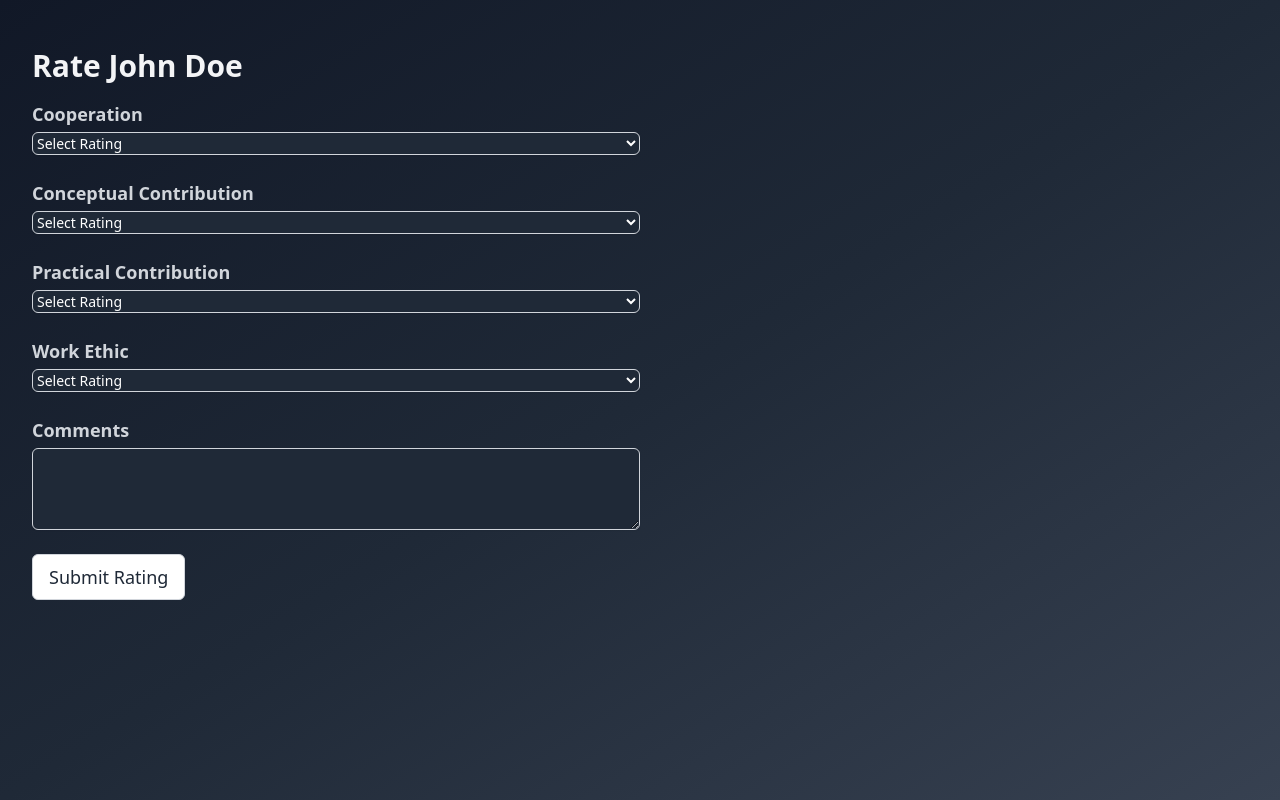
Test: PeerRating Component › handles API error gracefully
The image size is (1280, 800).
Fill the form
Select "5 - Excellent" in the dropdown with test id "cop": (336, 144) [32, 132, 640, 155]
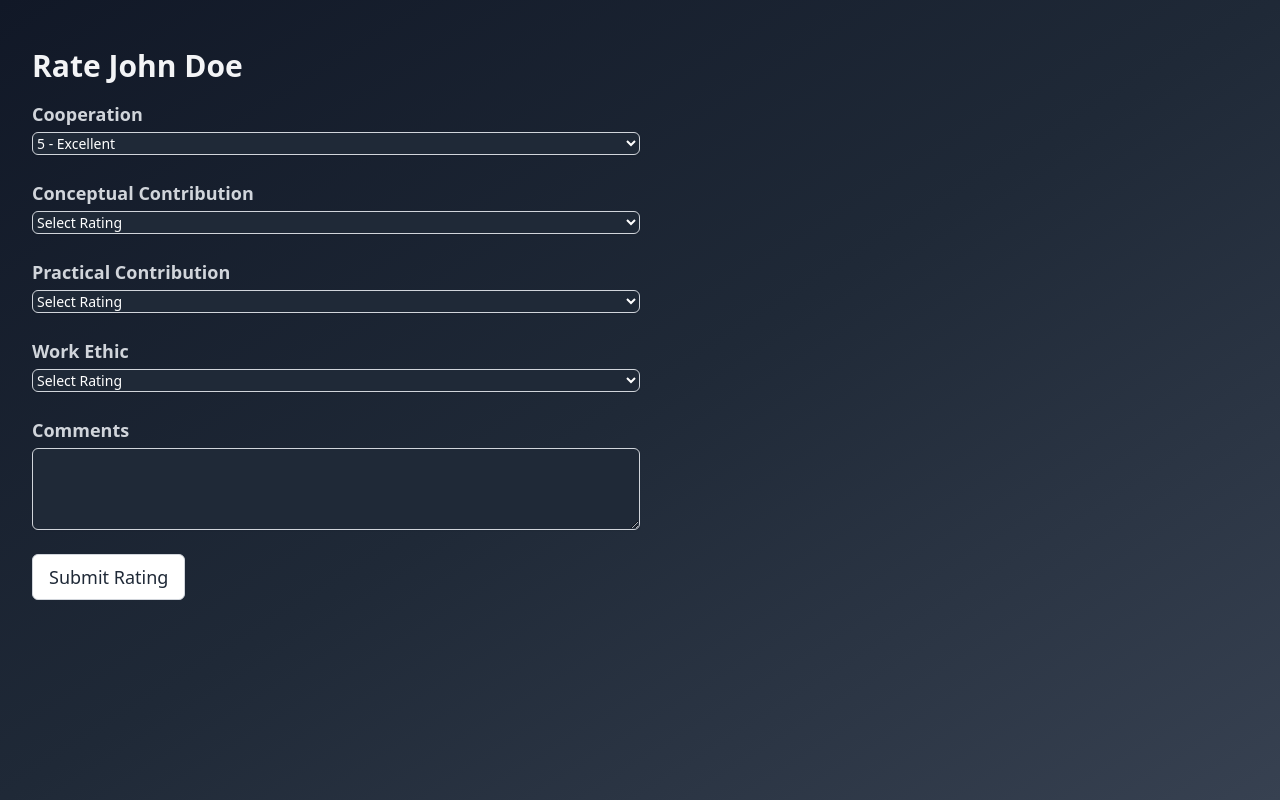
Select "4 - Very Good" in the dropdown with test id "con": (336, 222) [32, 211, 640, 234]
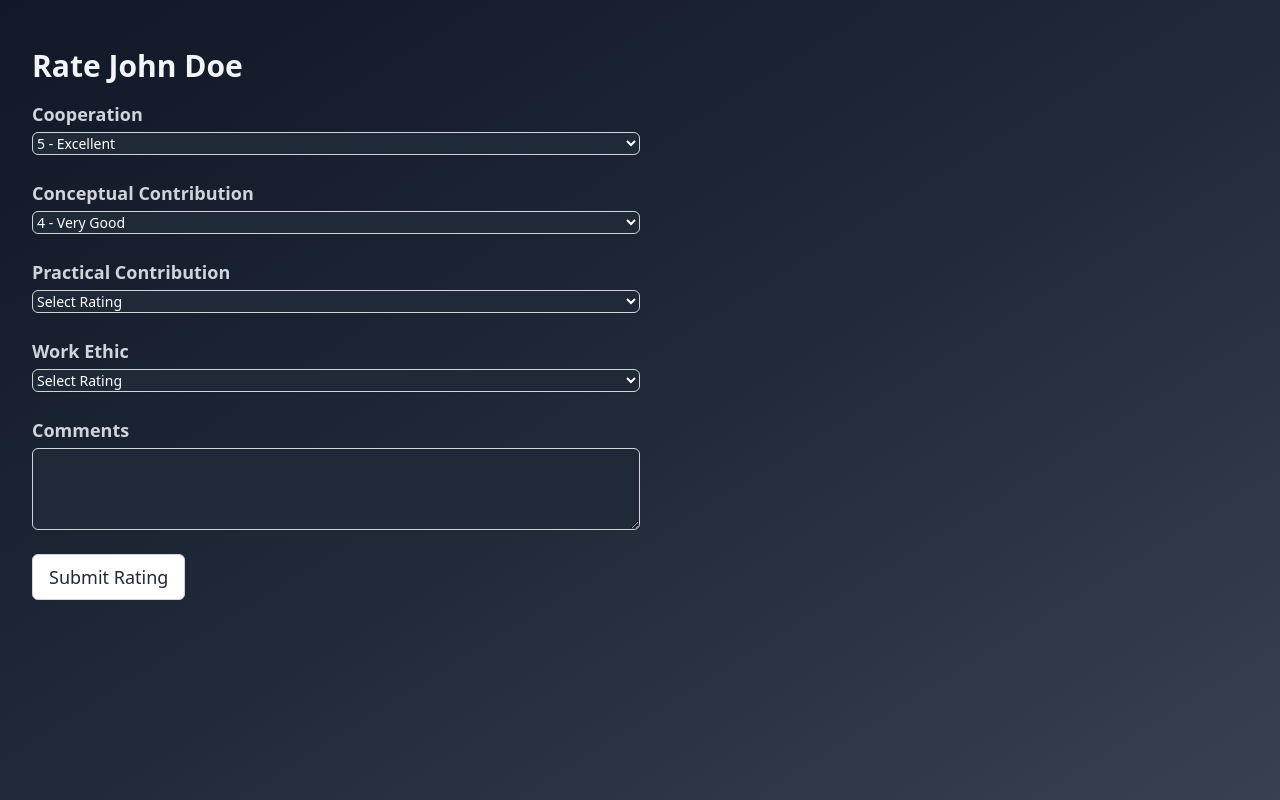
Select "3 - Good" in the dropdown with test id "prac": (336, 302) [32, 290, 640, 313]
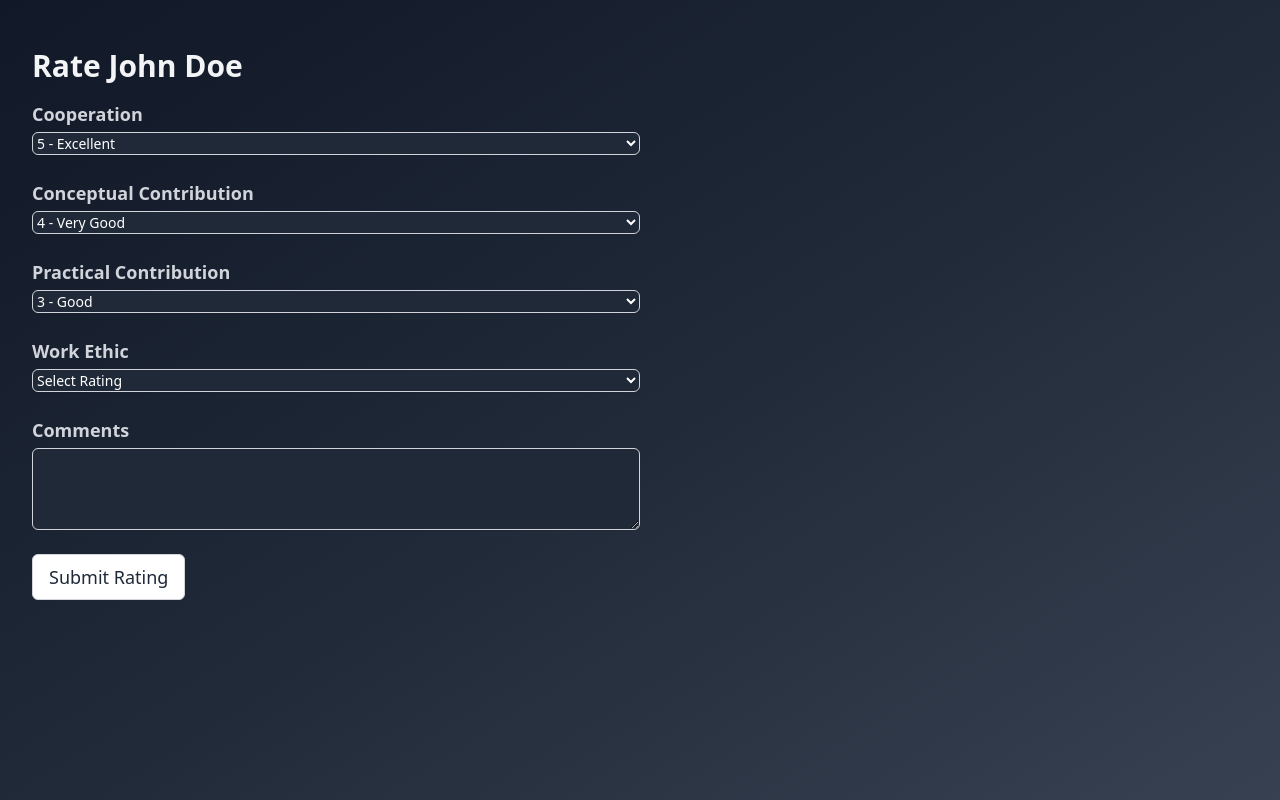
Select "5 - Excellent" in the dropdown with test id "weth": (336, 380) [32, 369, 640, 392]
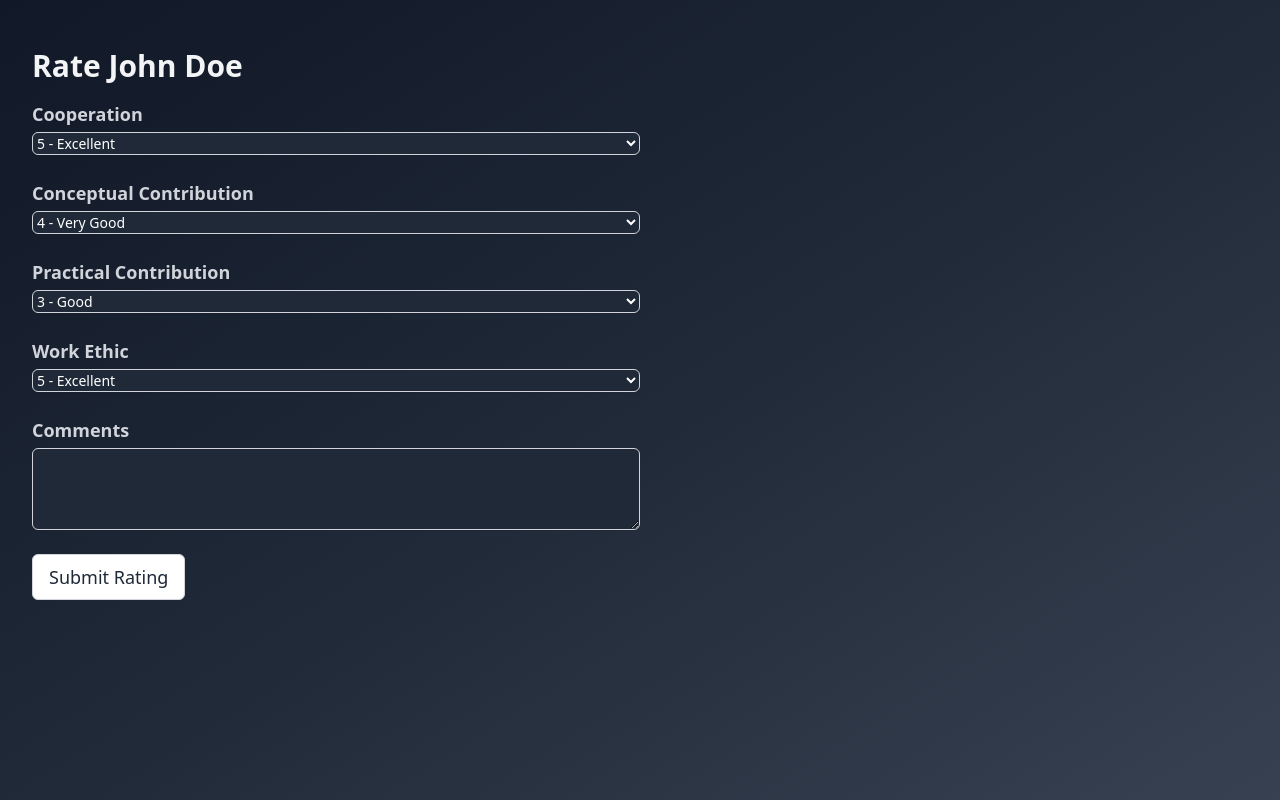
In the text box with test id "comm": (336, 489) [32, 448, 640, 530], type "Great teammate!"
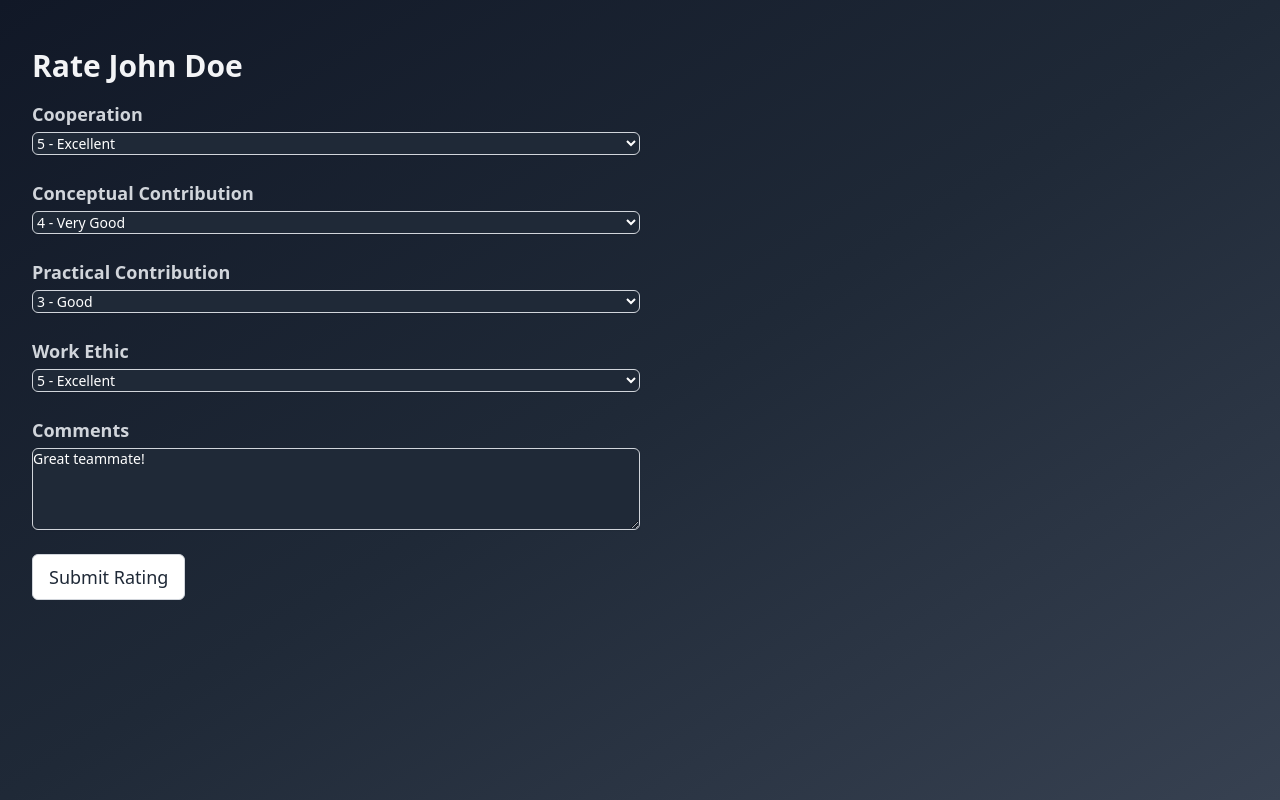
Click the button "Submit Rating": (109, 577) [32, 554, 185, 600]
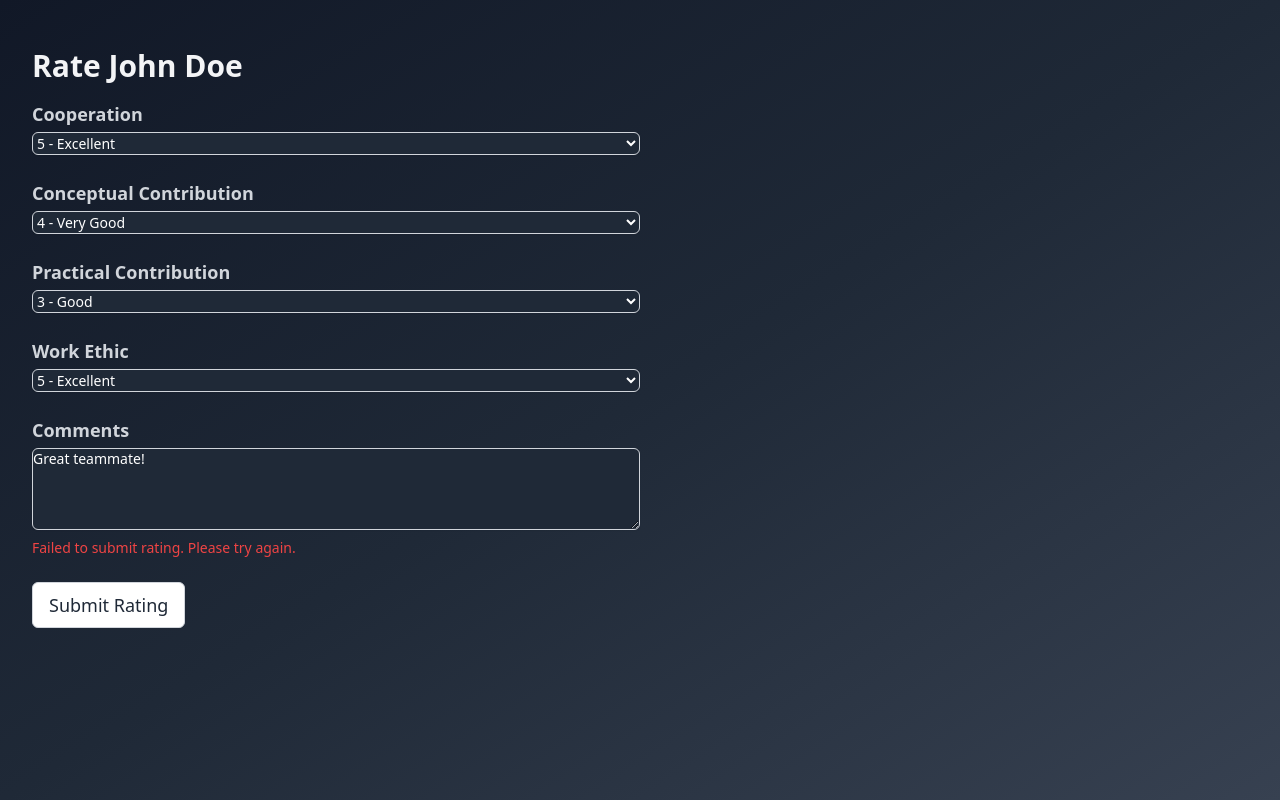
Result: the text "Failed to submit rating. Please try again." is shown at [32, 538, 296, 557]
